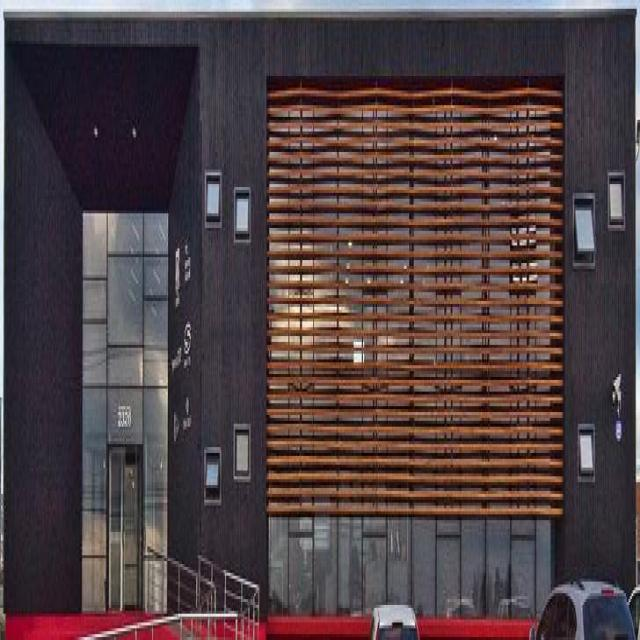door: (107, 440, 145, 628)
wall: (3, 12, 636, 637)
windows: (266, 81, 562, 614), (80, 210, 170, 621), (577, 208, 593, 258), (206, 175, 221, 220), (611, 181, 623, 228), (237, 432, 249, 478), (581, 432, 593, 474), (206, 461, 218, 494), (237, 202, 249, 234)
